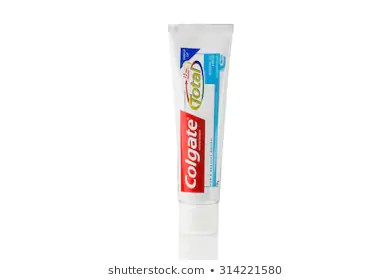colgate-total-150gm: (165, 21, 238, 245)
